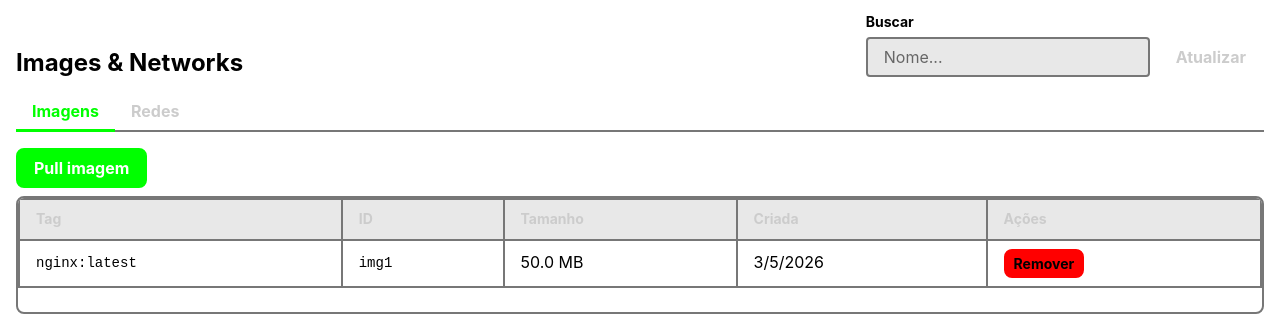
ImagesNetworks › tab "Redes" shows network table when clicked
This screenshot has width=1280, height=331.
Click the tab "Redes" at (155, 113), box [115, 93, 195, 132]
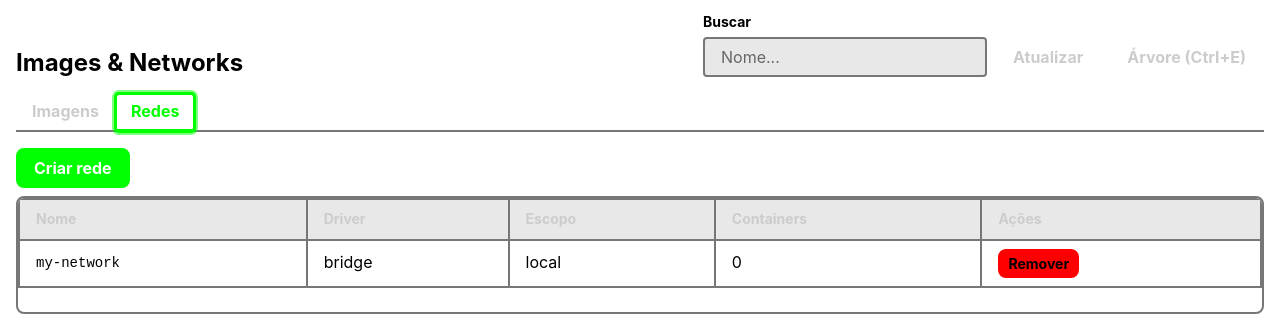
Check: the table named "Redes" is shown, box [18, 198, 1262, 288]
Check: the text "my-network" is shown, box [19, 240, 307, 287]
